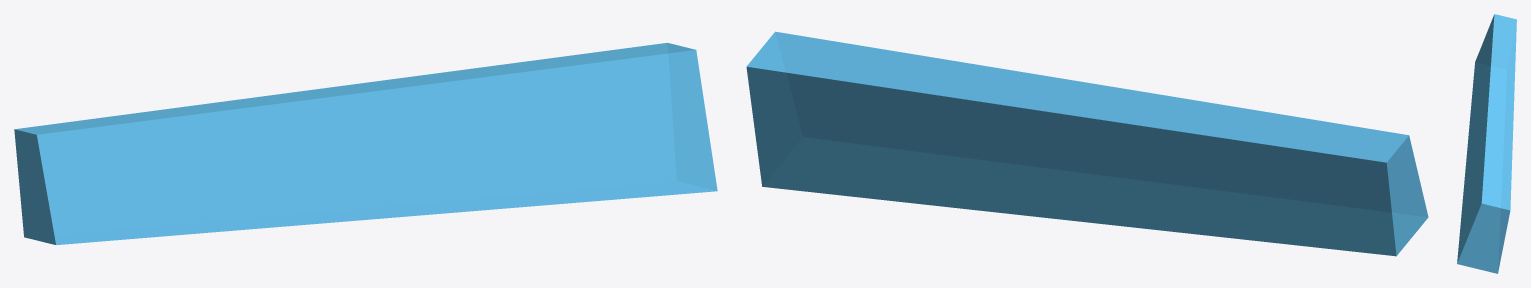
The model's file is Event_421115418_HErechit_128.fbx.
3 renders of one model, left to right at view 1: azimuth 30°, elevation 25°; view 2: azimuth 150°, elevation 25°; view 3: azimuth 270°, elevation 25°, orthographic. The views are drawn at different scales.
Parts seen in each view (by area): view 1: Model; view 2: Model; view 3: Model.
Boxes of the visible parts, x1=… form: Model: x1=14, y1=42, x2=717, y2=245; Model: x1=746, y1=31, x2=1428, y2=256; Model: x1=1457, y1=14, x2=1516, y2=273.
Size of the model in its own units: 3.09 by 0.94 by 0.4953.
